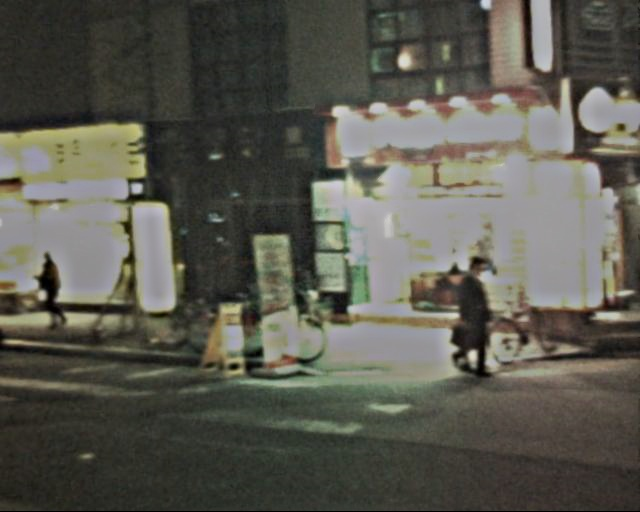person: (436, 254, 499, 381), (29, 241, 66, 329)
